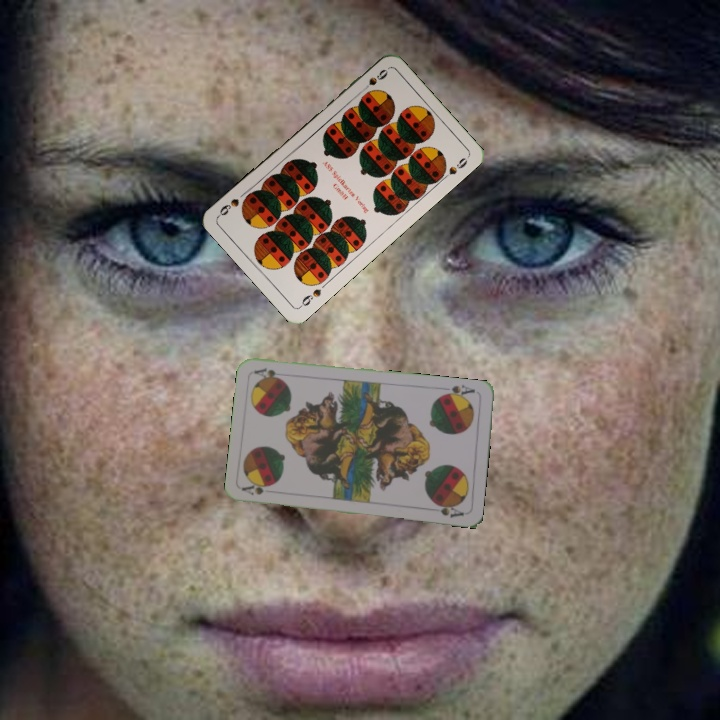S9: (356, 65, 391, 96), (296, 285, 324, 311)
SA: (438, 381, 478, 402), (239, 481, 279, 498)
